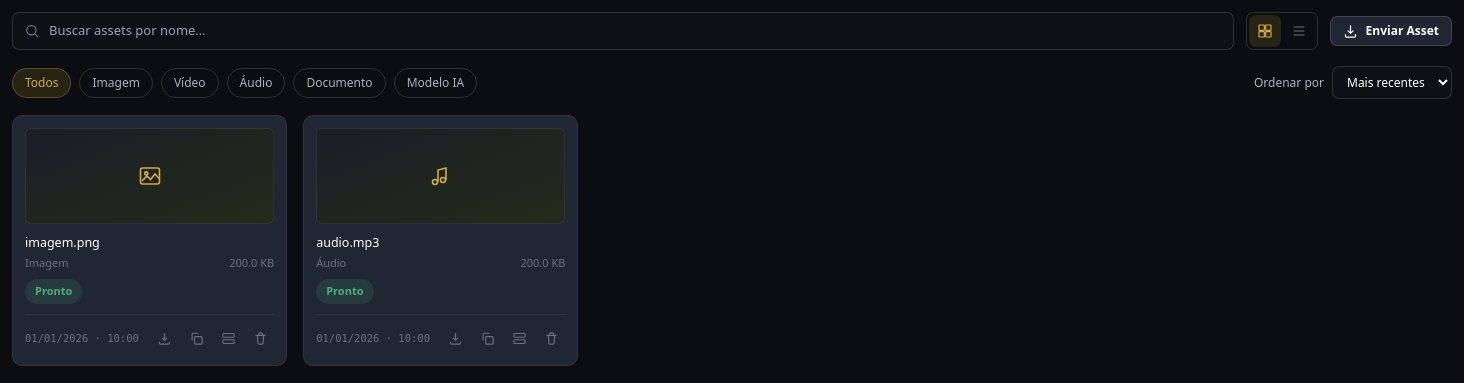
Test case: AssetLibrary › filtra por tipo
Expected: the text "imagem.png" is shown, x1=25 y1=234 x2=100 y2=251
Click the button "Áudio" at (256, 82), box x1=227 y1=68 x2=285 y2=98
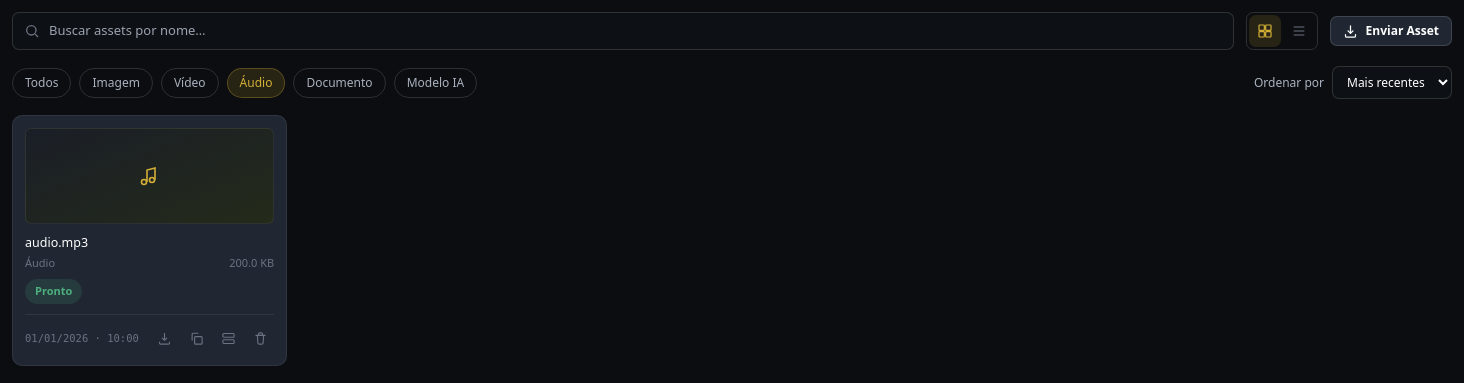
Expected: the text "audio.mp3" is shown, x1=25 y1=234 x2=88 y2=251
Result: the button "imagem.png" is gone
